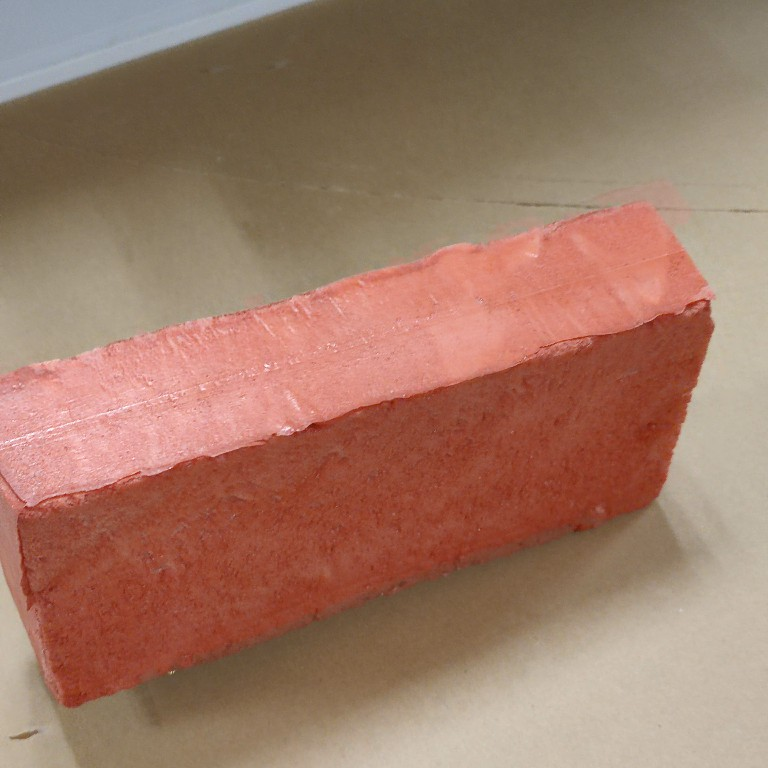brick: (1, 195, 725, 711)
